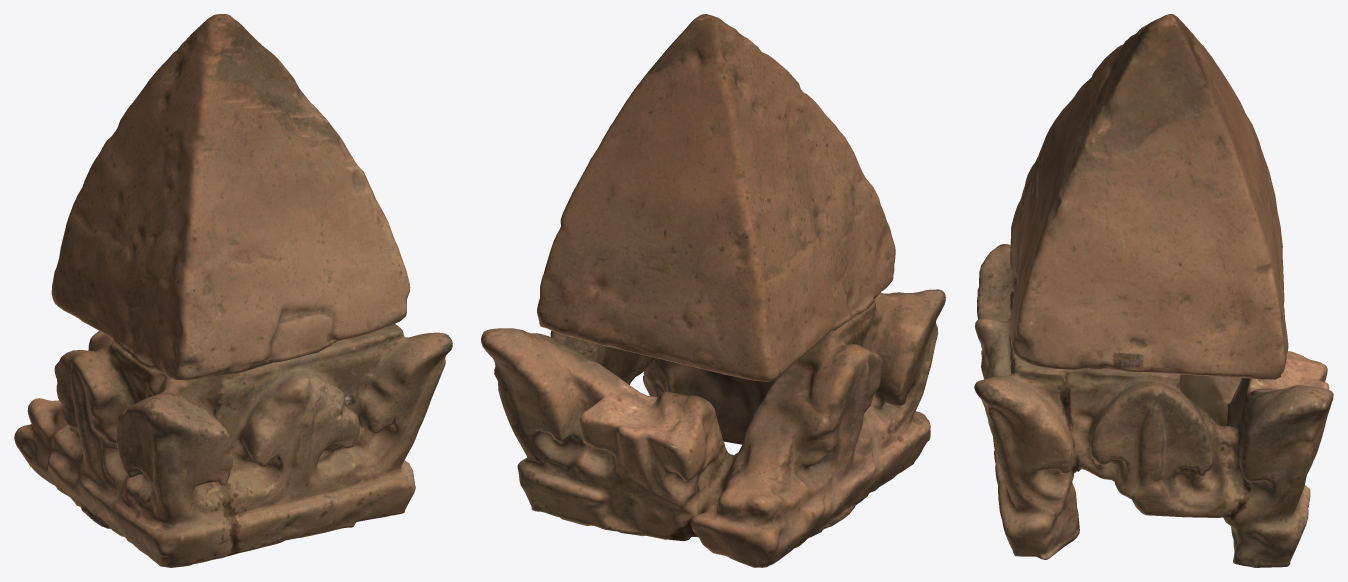
The model's file is MuseumMyson_dinhchopnhon_final.glb.
3 renders of one model, left to right at view 1: azimuth 30°, elevation 25°; view 2: azimuth 150°, elevation 25°; view 3: azimuth 270°, elevation 25°, orthographic. The views are drawn at different scales.
Size of the model in its own units: 0.3029 by 0.4416 by 0.2919.
Materials: 1 (1 with a texture image).
